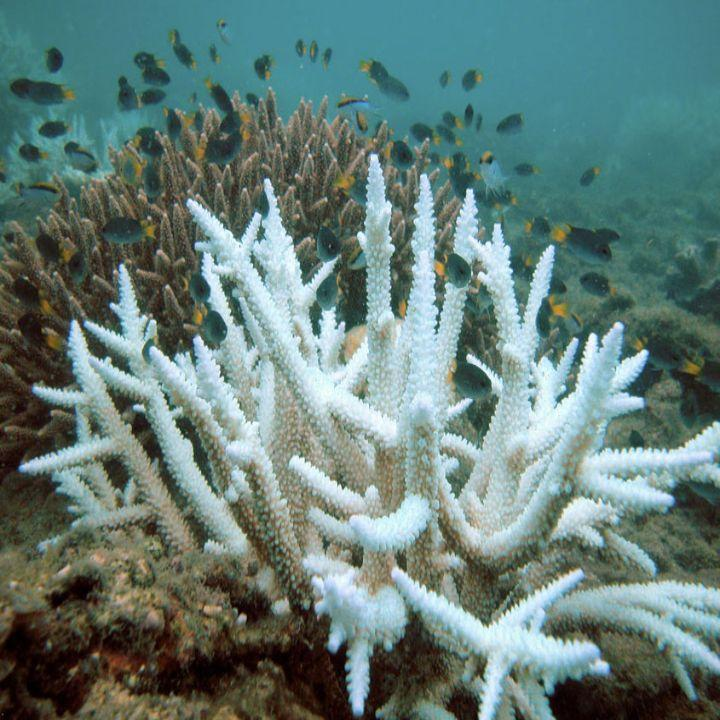Bleached disease: (47, 188, 705, 702)
